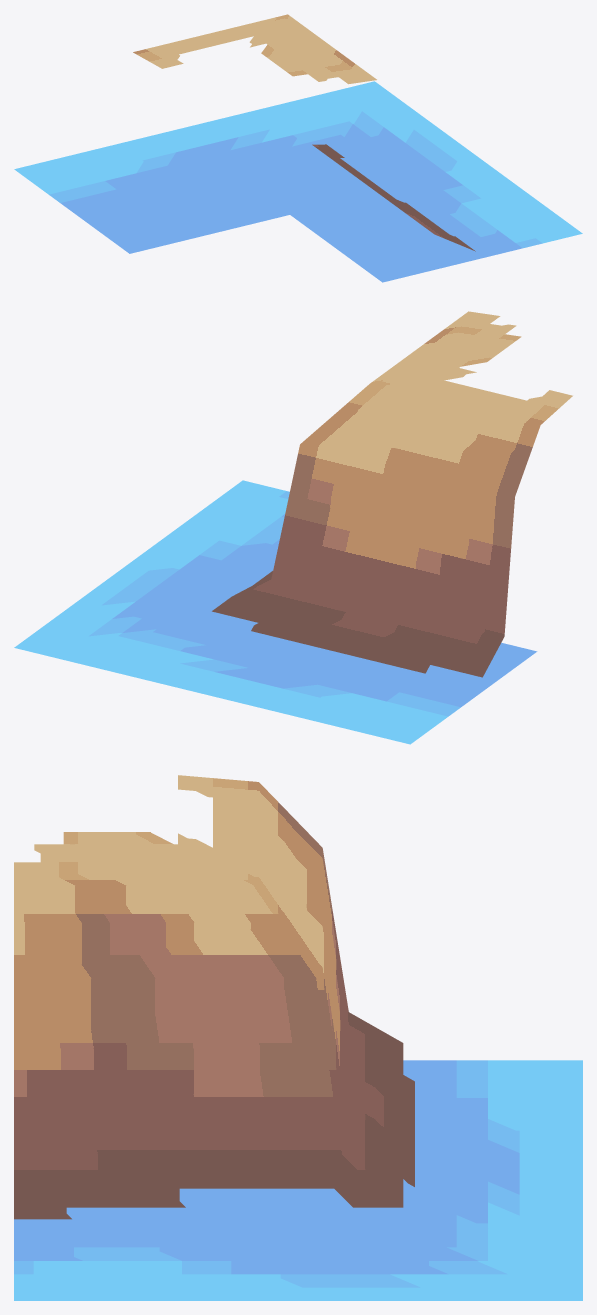
Rendered from berge-mare-edition-angle-right-phase-0.glb.
The picture shows the model from 3 angles, top to bottom: view 1: azimuth 30°, elevation 25°; view 2: azimuth 150°, elevation 25°; view 3: azimuth 270°, elevation 25°; orthographic projection. The views are drawn at different scales.
Size of the model in its own units: 1.12 by 0.627 by 1.12.
Materials: 2 (2 with a texture image).
